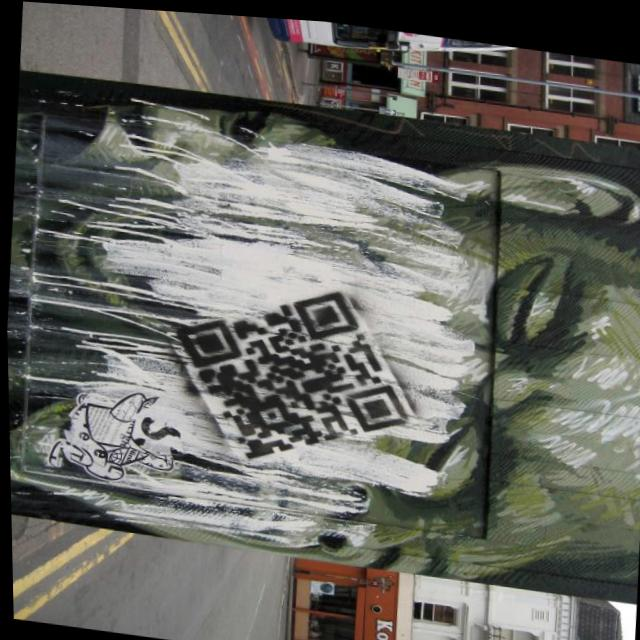qrcode: (166, 268, 415, 476)
